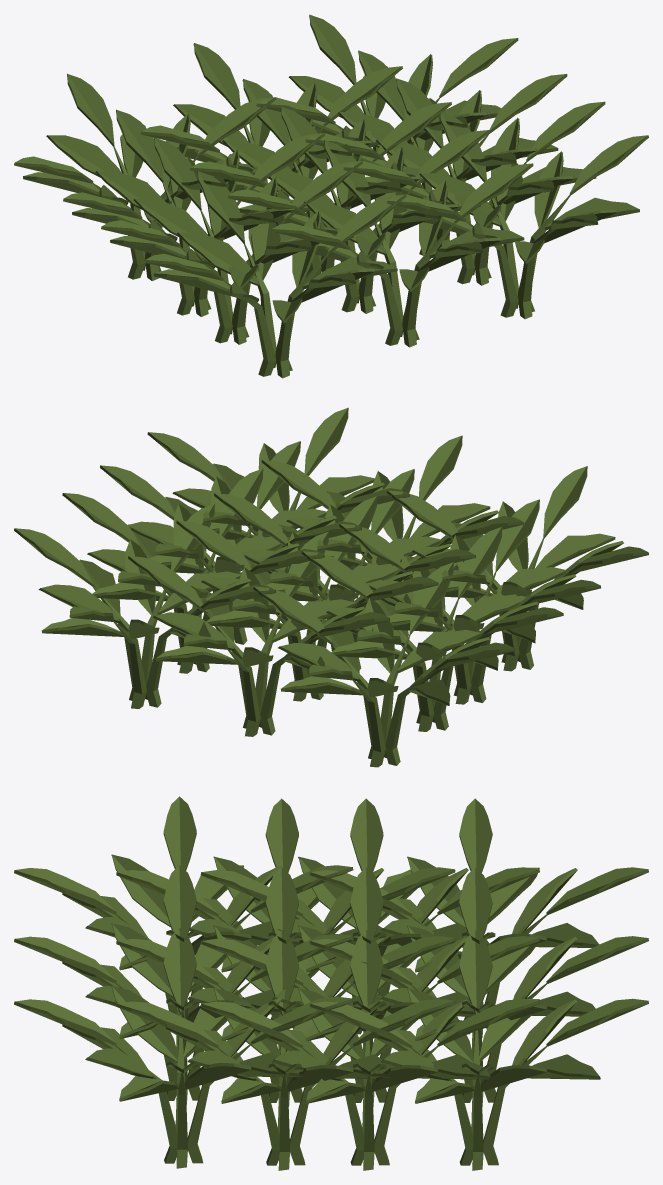
Rendered from SM_Plants_01.fbx.
3 renders of one model, top to bottom at view 1: azimuth 30°, elevation 25°; view 2: azimuth 150°, elevation 25°; view 3: azimuth 270°, elevation 25°, orthographic. The views are drawn at different scales.
Visible parts, largest first — view 1: Plantas1; view 2: Plantas1; view 3: Plantas1.
Part boxes in pixels (bbox=[...]): Plantas1: bbox=[14, 14, 648, 378]; Plantas1: bbox=[14, 407, 648, 767]; Plantas1: bbox=[14, 796, 648, 1170].
Bounding box in the file's own units: 3.37 × 0.9264 × 3.28.
